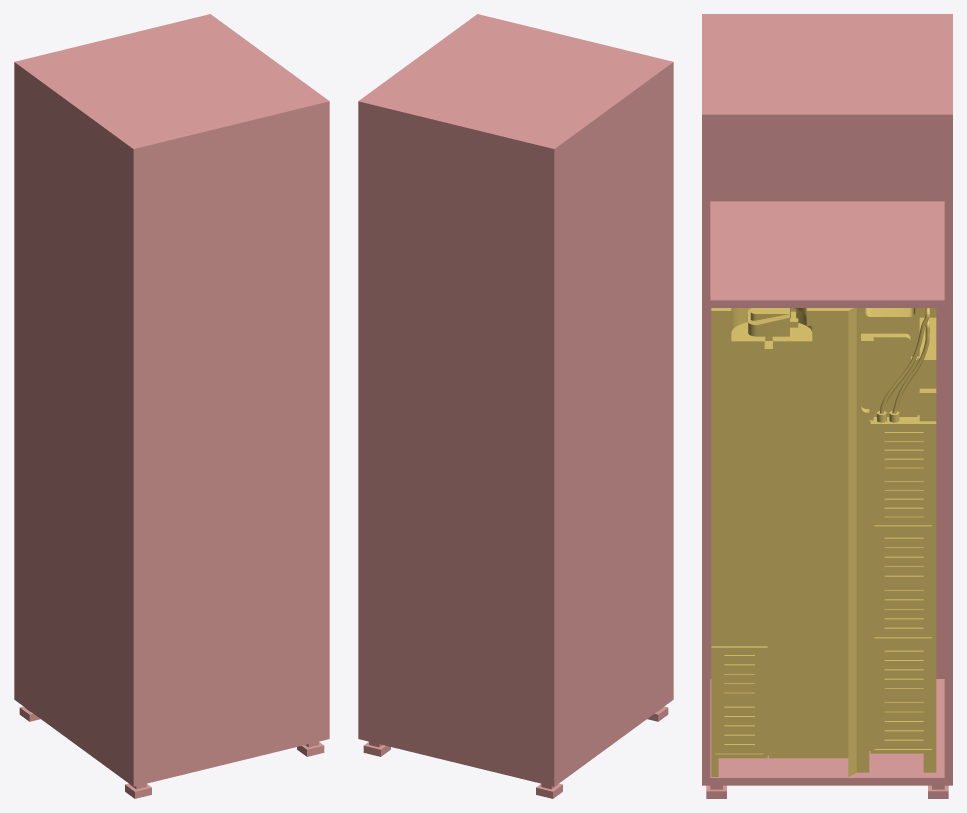
Rendered from Frame.fbx.
3 views of the same model, side by side, from view 1: azimuth 30°, elevation 25°; view 2: azimuth 150°, elevation 25°; view 3: azimuth 270°, elevation 25° (orthographic). The views are drawn at different scales.
Visible parts, largest first — view 1: S320-Frame; view 2: S320-Frame; view 3: S320-Bottom, S320-Frame.
Part boxes in pixels (<box>): S320-Frame: <box>14,14,329,798</box>; S320-Frame: <box>358,14,673,798</box>; S320-Bottom: <box>711,308,936,776</box>; S320-Frame: <box>702,14,952,798</box>.
Size of the model in its own units: 57 by 181 by 60.
